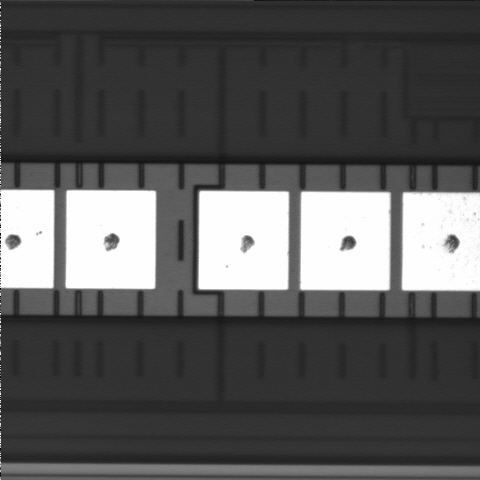pad: (198, 191, 289, 290), (66, 190, 156, 289), (300, 192, 390, 290)
